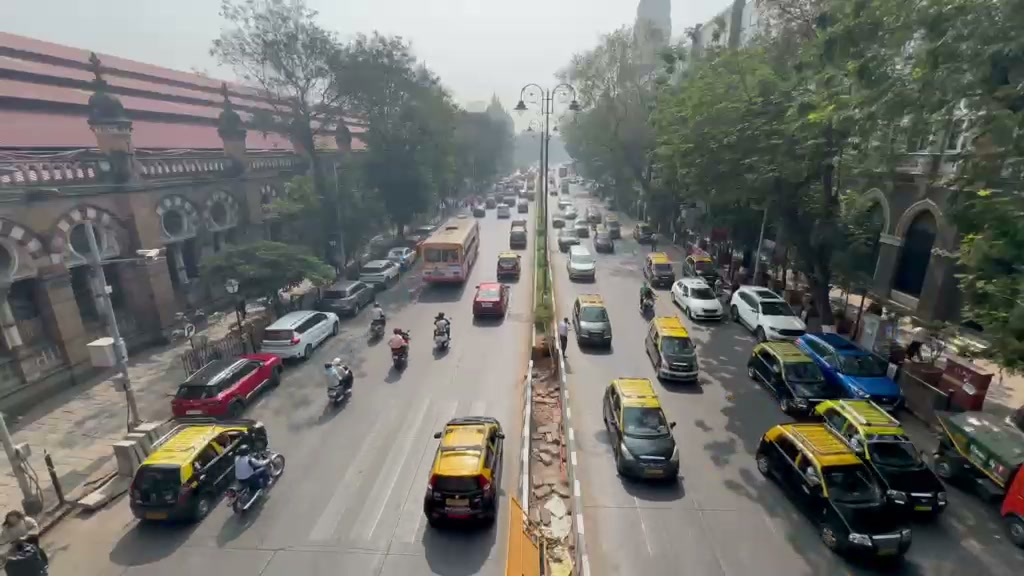bus: (420, 215, 480, 285)
car: (753, 420, 912, 561), (813, 396, 947, 520), (128, 418, 273, 523), (746, 338, 867, 418), (423, 415, 504, 529), (797, 331, 906, 412), (601, 377, 680, 484), (170, 353, 282, 419), (730, 285, 808, 340), (259, 309, 339, 360), (643, 315, 700, 384), (228, 448, 285, 514), (671, 276, 726, 323), (315, 277, 376, 319), (572, 297, 614, 351), (999, 461, 1024, 550), (471, 281, 511, 323), (358, 258, 402, 291), (566, 245, 597, 282)
motorcycle: (324, 362, 353, 409)
truck: (814, 397, 950, 520), (932, 408, 1024, 504)
